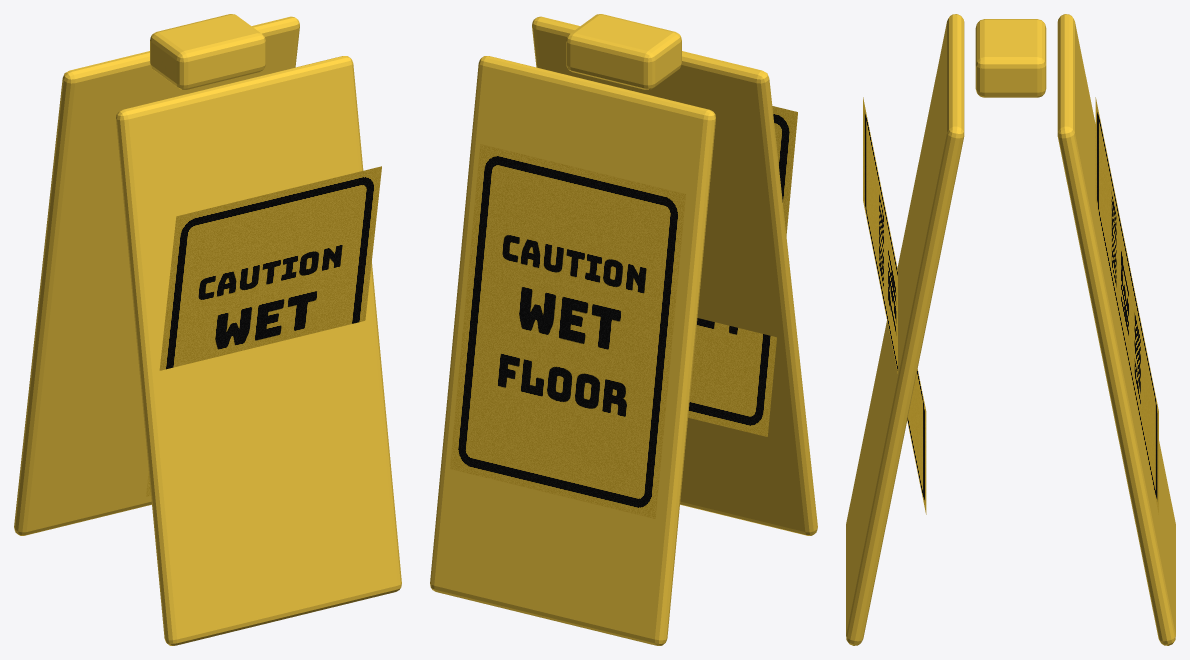
Rendered from Street_WetFloor.fbx.
The picture shows the model from 3 angles, left to right: view 1: azimuth 30°, elevation 25°; view 2: azimuth 150°, elevation 25°; view 3: azimuth 270°, elevation 25°; orthographic projection. The views are drawn at different scales.
Visible parts, largest first — view 1: Street_WetFloor; view 2: Street_WetFloor; view 3: Street_WetFloor.
Boxes of the visible parts, bbox=[...] form: Street_WetFloor: bbox=[14, 14, 401, 645]; Street_WetFloor: bbox=[430, 14, 817, 645]; Street_WetFloor: bbox=[846, 14, 1175, 645].
Size of the model in its own units: 0.32 by 0.6897 by 0.3743.
Materials: 2 (1 with a texture image).
